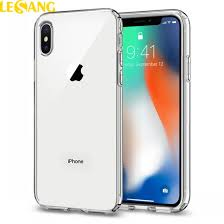iphone: (30, 5, 122, 215)
iphone10: (114, 7, 190, 214)
